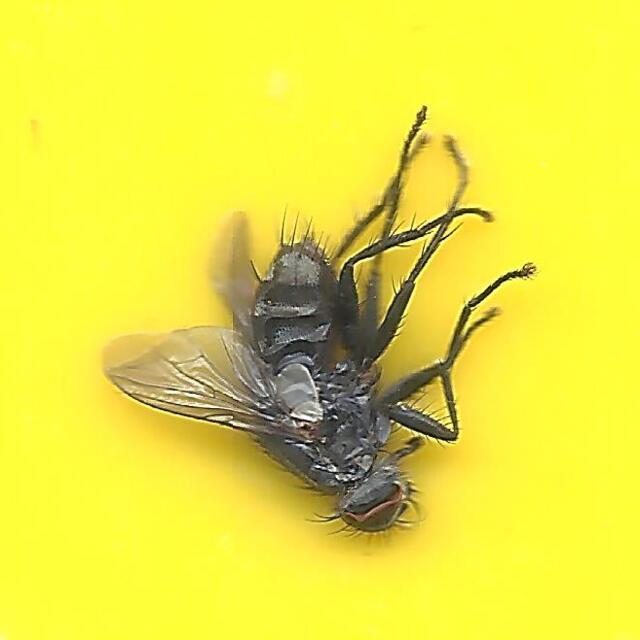Brachycera: (97, 103, 543, 537)
